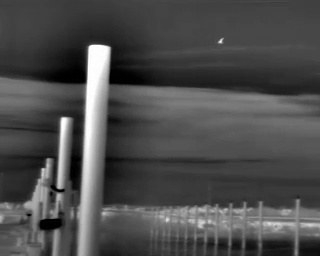BIRD: (216, 35, 226, 47)
